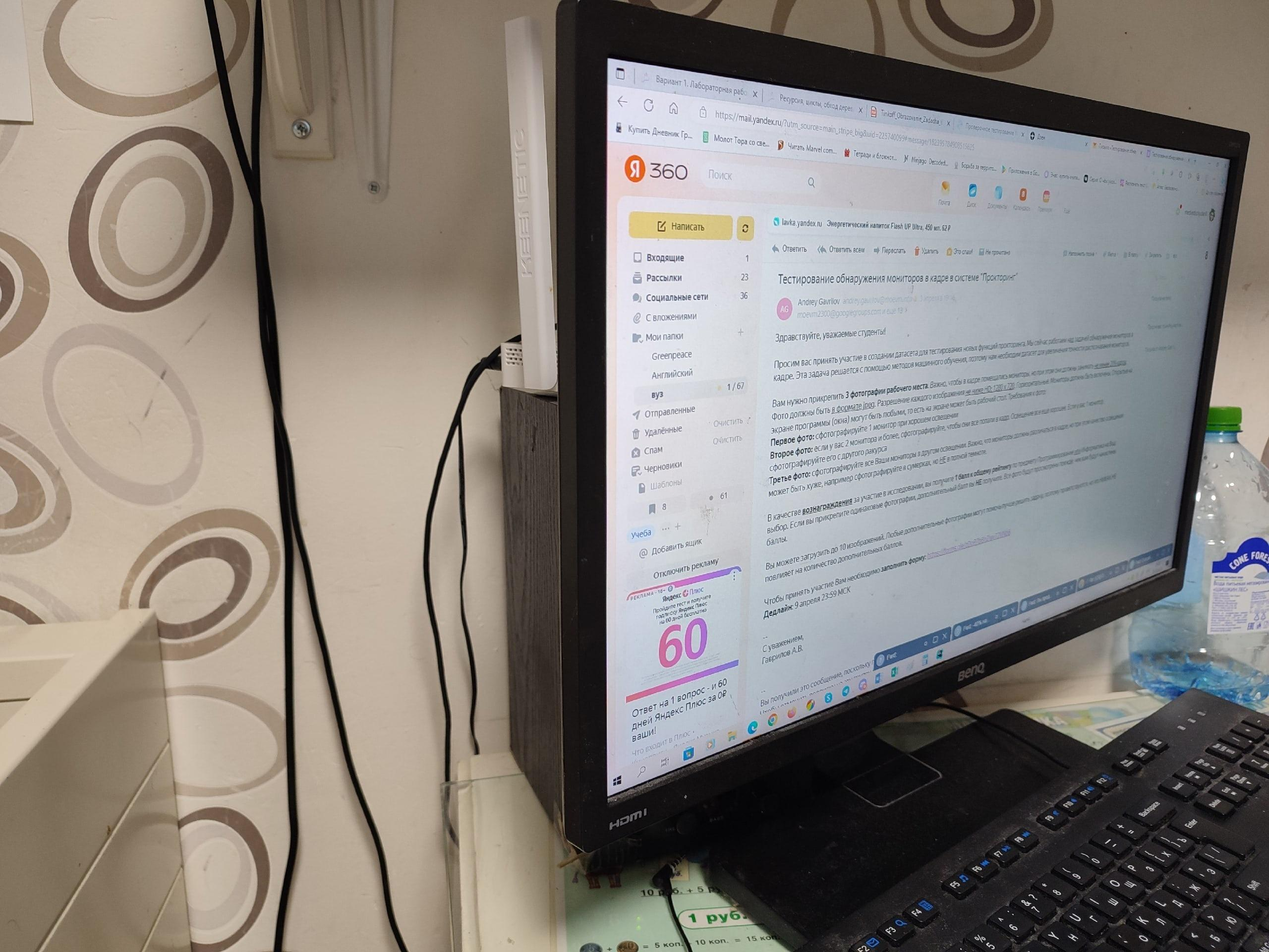monitor: (554, 0, 1254, 854)
